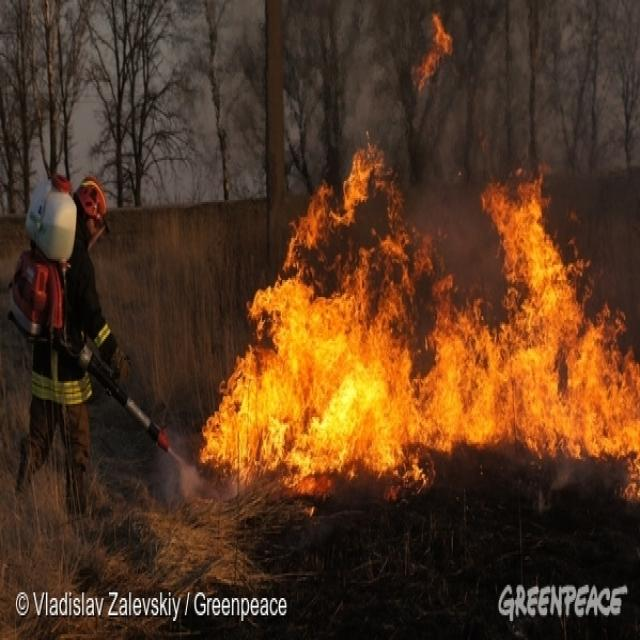fire: (424, 268, 640, 452), (218, 283, 407, 474)
